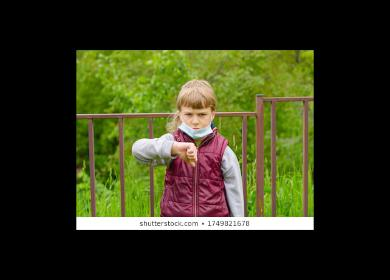mask_weared_incorrect: (181, 109, 212, 137)
